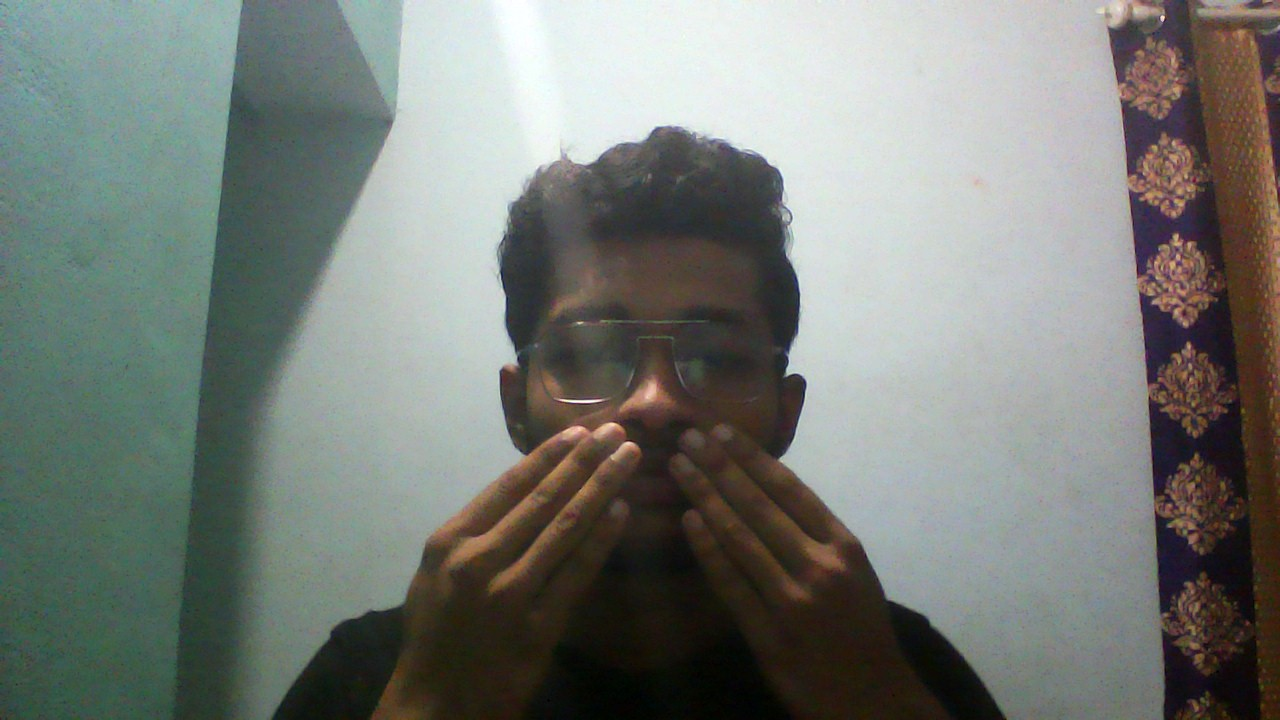Thanks: (394, 393, 939, 668)
